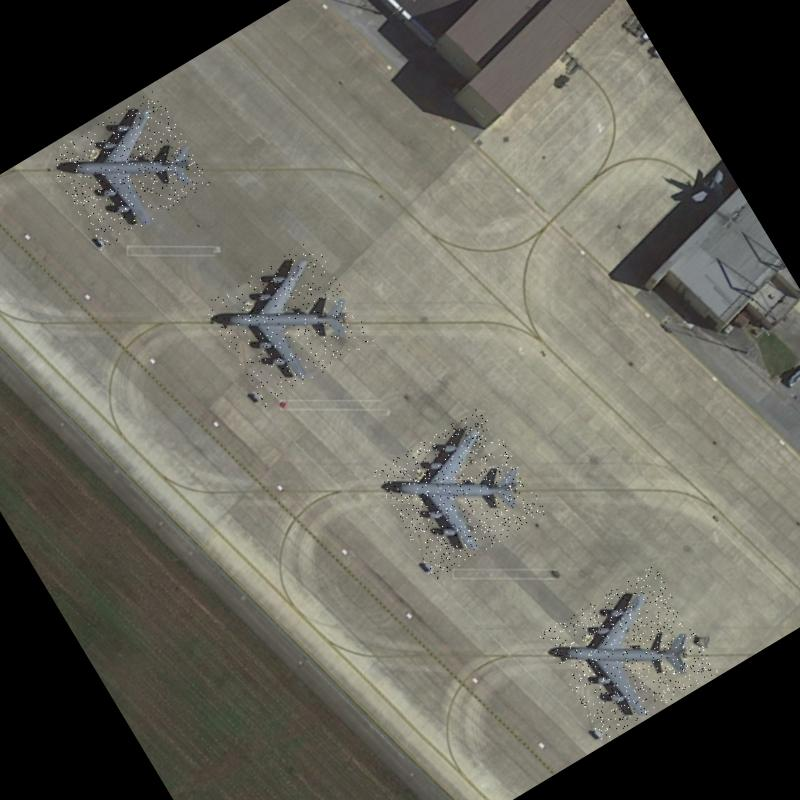A14: (538, 564, 718, 740), (370, 404, 547, 580), (202, 238, 374, 407), (43, 89, 211, 250)
